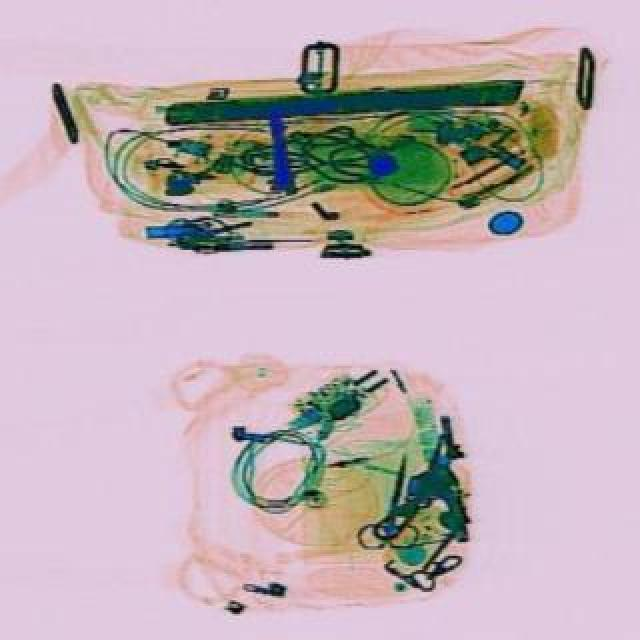pliers: (352, 448, 428, 552)
